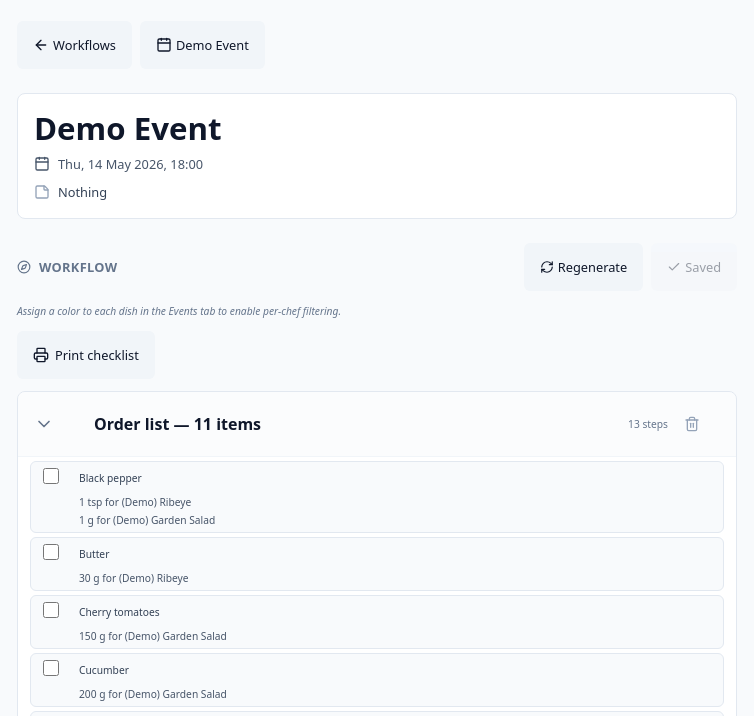
Workflow page — persistence › Regenerate clears the saved snapshot and re-runs the algorithm
The image size is (754, 716).
What coordinates should you click on to do the following:
click the button "Regenerate"
I would click on:
 (584, 267)
Its box is top-left (524, 243), bottom-right (643, 291).
(page scrolled)
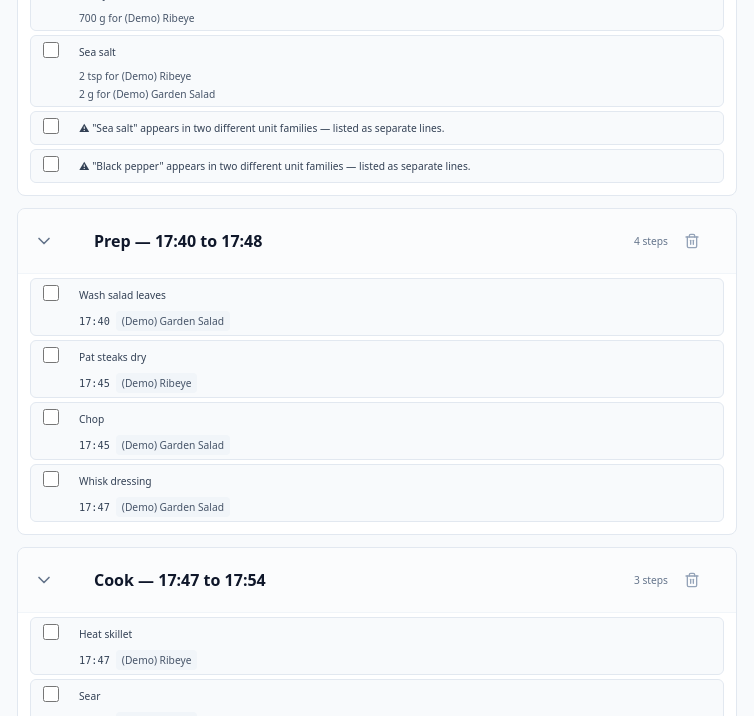
Check: the text "Pat steaks dry" is shown, box top-left (79, 350), bottom-right (146, 364)
